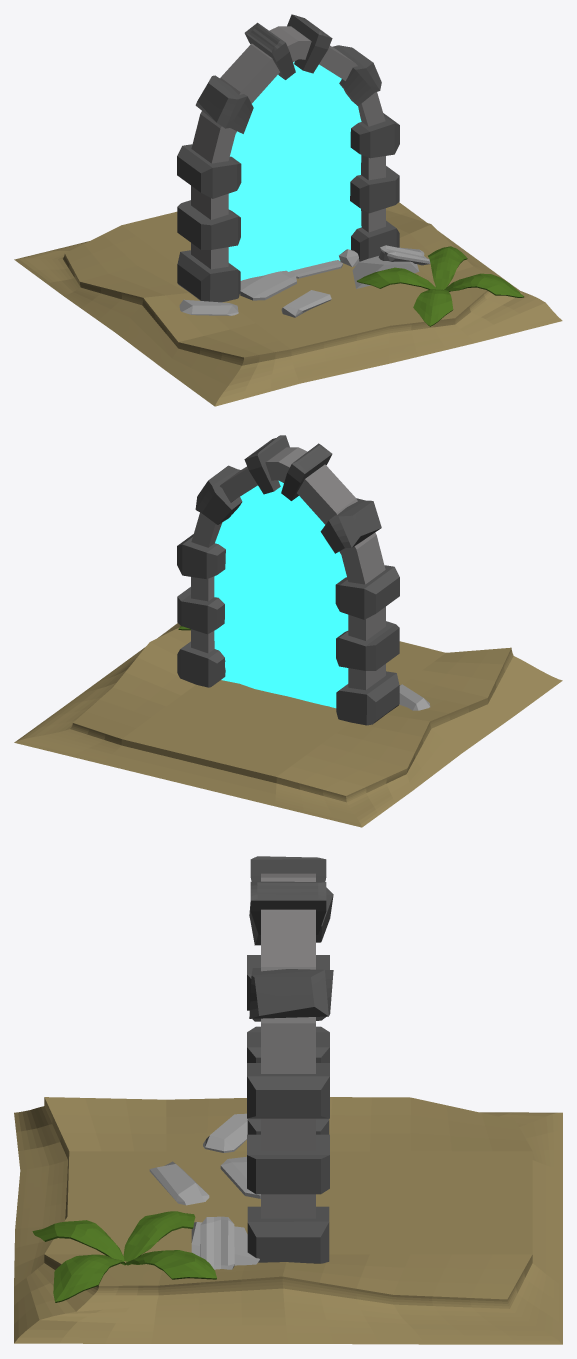
The model's file is portal.fbx.
3 views of the same model, one above another, from view 1: azimuth 30°, elevation 25°; view 2: azimuth 150°, elevation 25°; view 3: azimuth 270°, elevation 25° (orthographic). The views are drawn at different scales.
Visible parts, largest first — view 1: Cubo.001; view 2: Cubo.001; view 3: Cubo.001.
Part boxes in pixels (bbox=[...]): Cubo.001: bbox=[14, 14, 562, 406]; Cubo.001: bbox=[14, 435, 562, 827]; Cubo.001: bbox=[14, 856, 562, 1344].
Size of the model in its own units: 1995 by 1440 by 1993.
